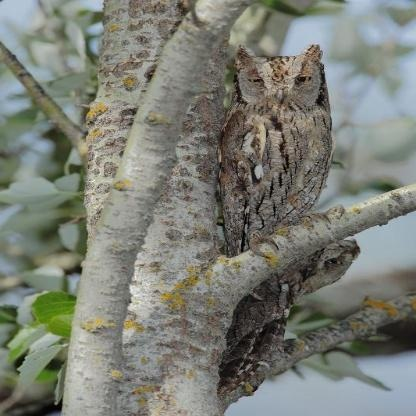Owl: (223, 51, 331, 336)
